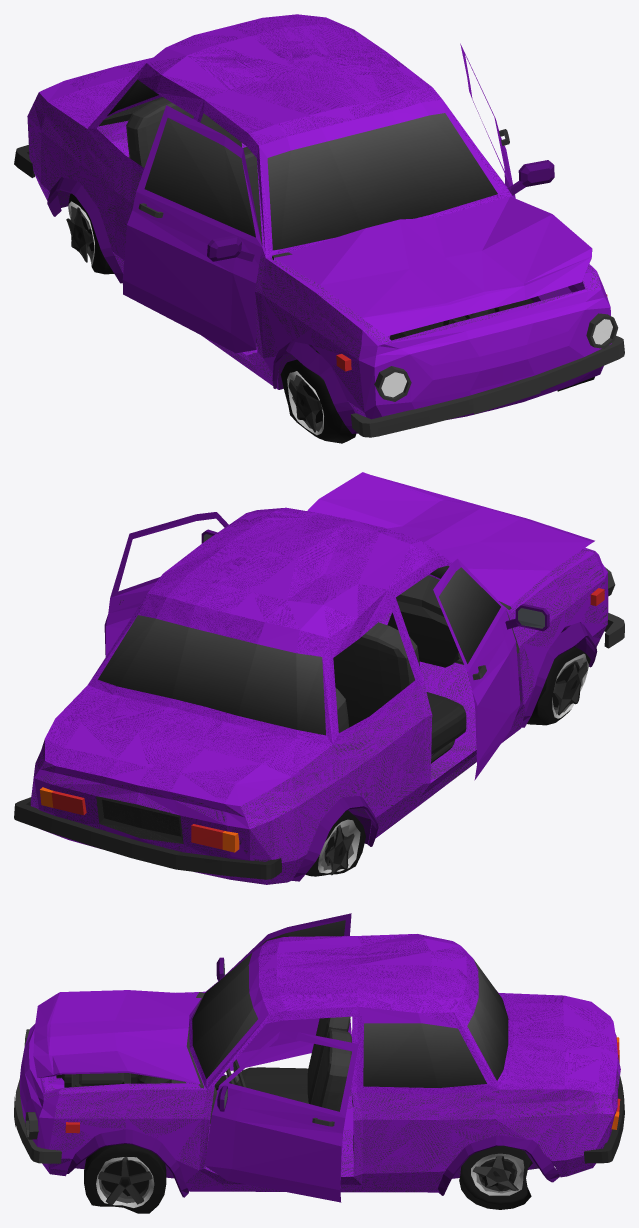
File: Broken Car 2.fbx
3 renders of one model, top to bottom at view 1: azimuth 30°, elevation 25°; view 2: azimuth 150°, elevation 25°; view 3: azimuth 270°, elevation 25°, orthographic. The views are drawn at different scales.
Visible parts, largest first — view 1: Broken_Car_2; view 2: Broken_Car_2; view 3: Broken_Car_2.
Boxes of the visible parts, x1,y1,x2,y2 form: Broken_Car_2: [14, 14, 624, 443]; Broken_Car_2: [14, 472, 624, 884]; Broken_Car_2: [14, 913, 624, 1213].
Bounding box in the file's own units: 322 × 199 × 551.
